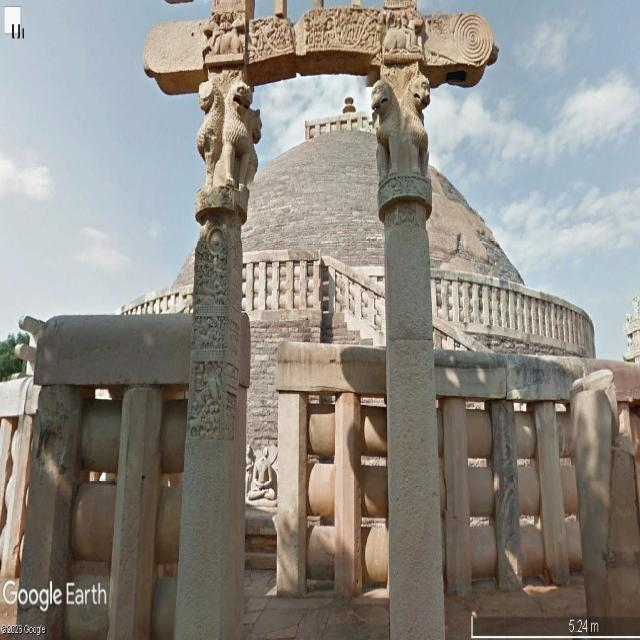objects-ruins-artifacts: (29, 286, 307, 589), (120, 13, 488, 234), (388, 360, 617, 557)
